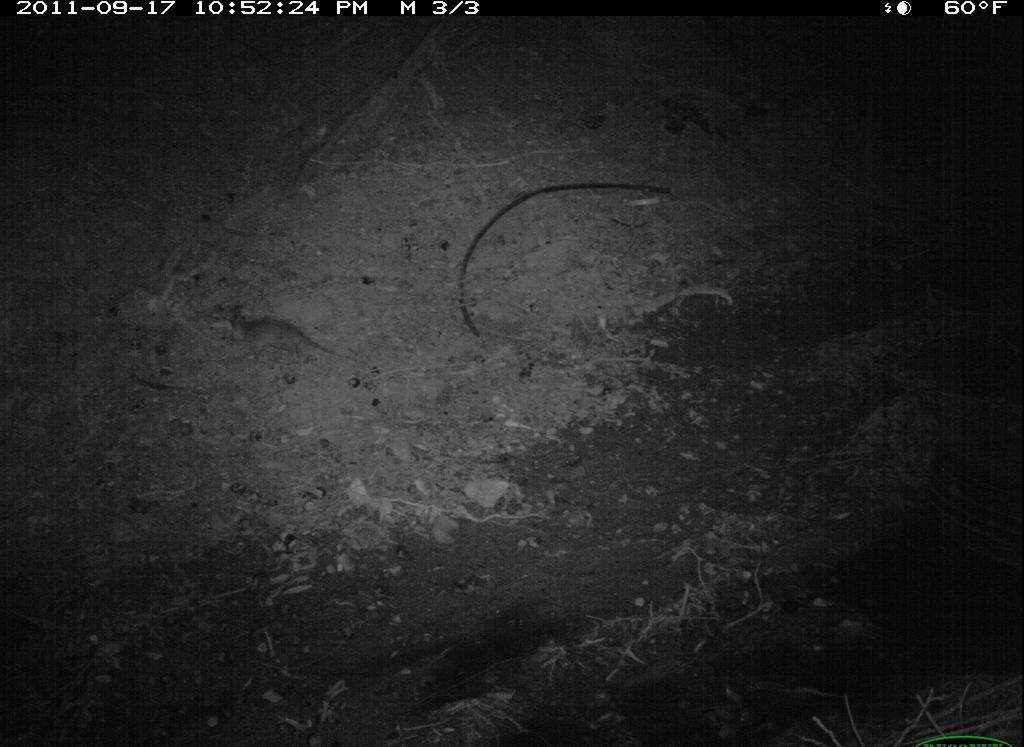opossum: (207, 300, 365, 402)
